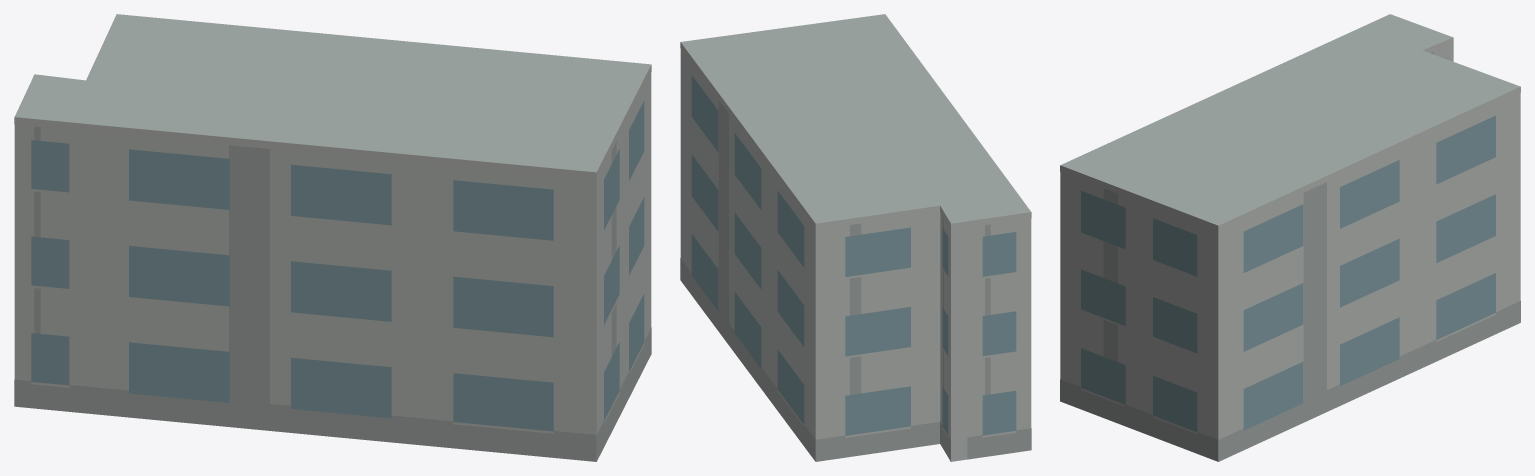
File: survey-upis-32697994.glb
The picture shows the model from 3 angles, left to right: view 1: azimuth 30°, elevation 25°; view 2: azimuth 150°, elevation 25°; view 3: azimuth 270°, elevation 25°; orthographic projection. The views are drawn at different scales.
Parts seen in each view (by area): view 1: survey-upis-32697994.tmp; view 2: survey-upis-32697994.tmp; view 3: survey-upis-32697994.tmp.
Boxes of the visible parts, left/top/right/bottom form: survey-upis-32697994.tmp: left=14, top=14, right=651, bottom=461; survey-upis-32697994.tmp: left=680, top=14, right=1031, bottom=461; survey-upis-32697994.tmp: left=1060, top=14, right=1520, bottom=461.
Size of the model in its own units: 17.6 by 9.15 by 16.18.
